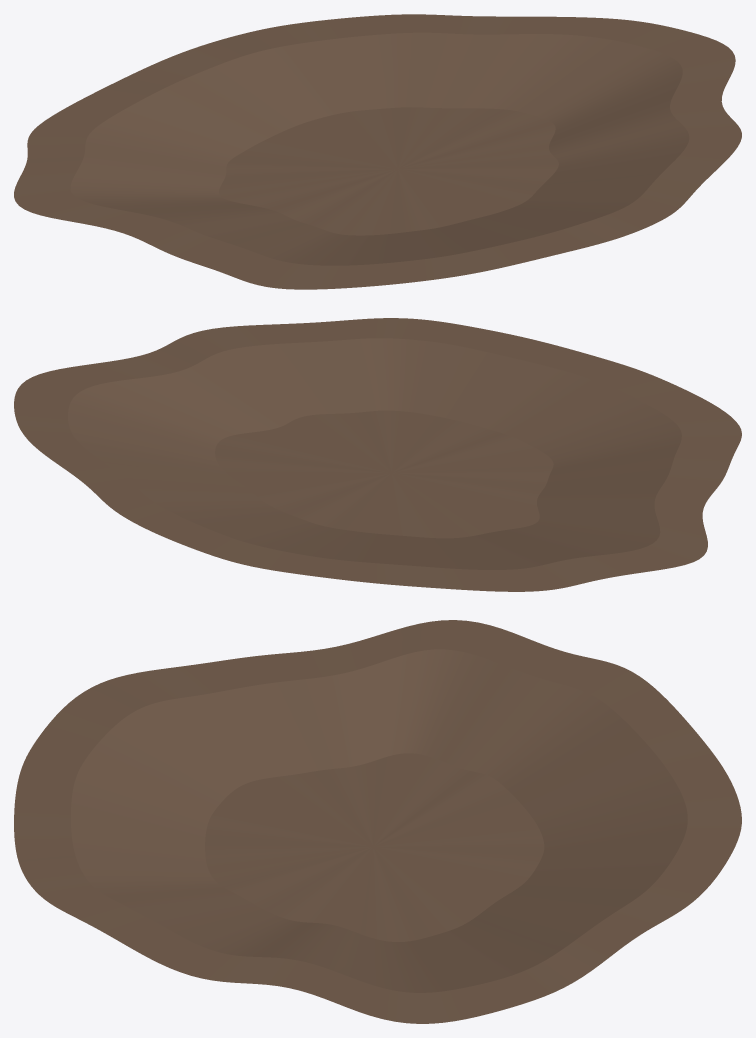
File: pit.glb
3 renders of one model, top to bottom at view 1: azimuth 30°, elevation 25°; view 2: azimuth 150°, elevation 25°; view 3: azimuth 270°, elevation 25°, orthographic. The views are drawn at different scales.
Parts seen in each view (by area): view 1: PitSlope, PitShoulder, PitFloor; view 2: PitSlope, PitShoulder, PitFloor; view 3: PitSlope, PitShoulder, PitFloor.
Part boxes in pixels (x1,y1,x2,y2): PitSlope: (70, 32, 689, 265); PitShoulder: (14, 14, 741, 289); PitFloor: (219, 107, 558, 235); PitSlope: (68, 338, 681, 569); PitShoulder: (14, 318, 741, 591); PitFloor: (215, 410, 553, 538); PitSlope: (71, 649, 687, 992); PitShoulder: (14, 620, 741, 1023); PitFloor: (205, 753, 544, 941).
Size of the model in its own units: 136 by 4.31 by 104.
